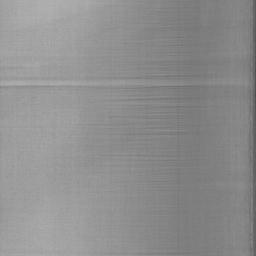Waist folding: (0, 75, 256, 89), (133, 128, 187, 139), (111, 97, 168, 105), (0, 251, 55, 256), (135, 154, 175, 160), (135, 249, 176, 253), (0, 66, 31, 68)
